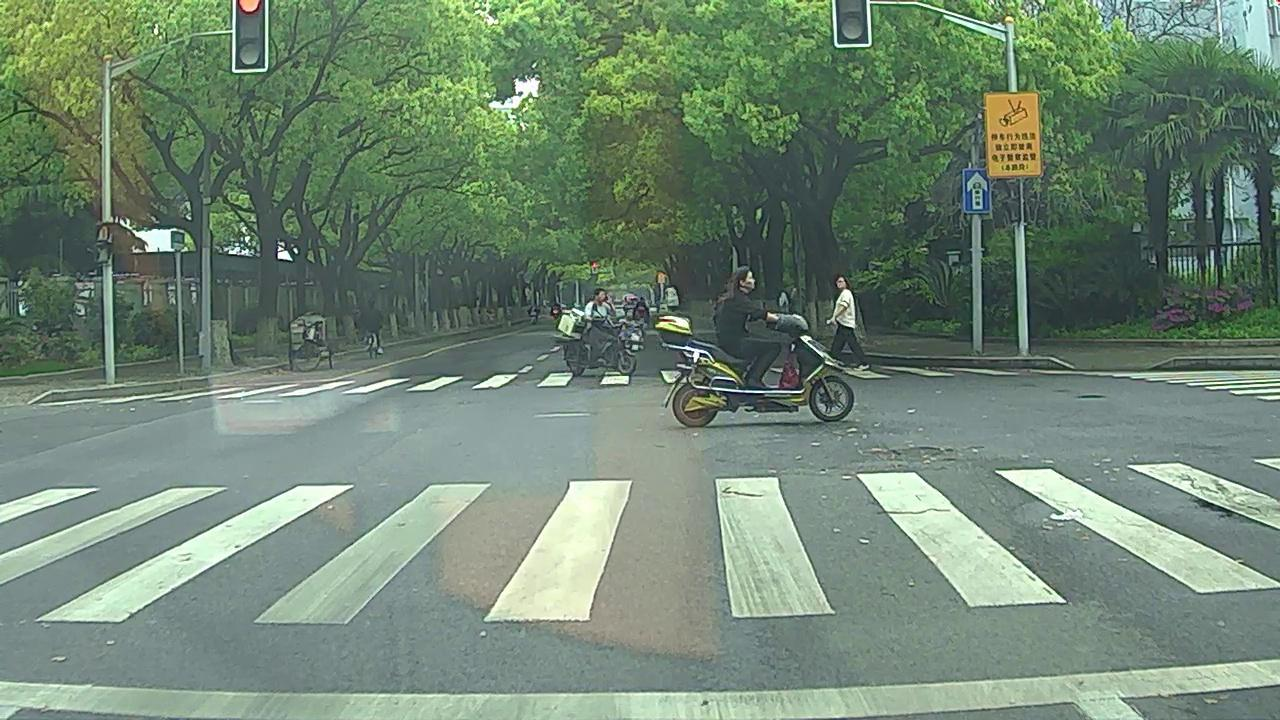traffic_light: (234, 1, 267, 70), (835, 1, 870, 43)
